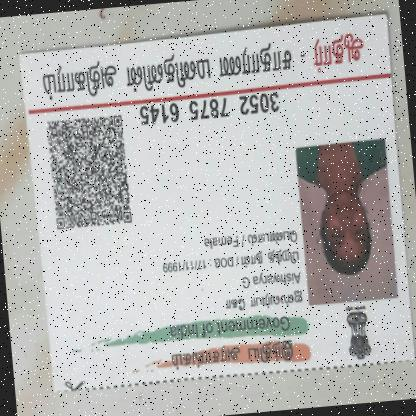aadhaar_card: (12, 7, 415, 403)
